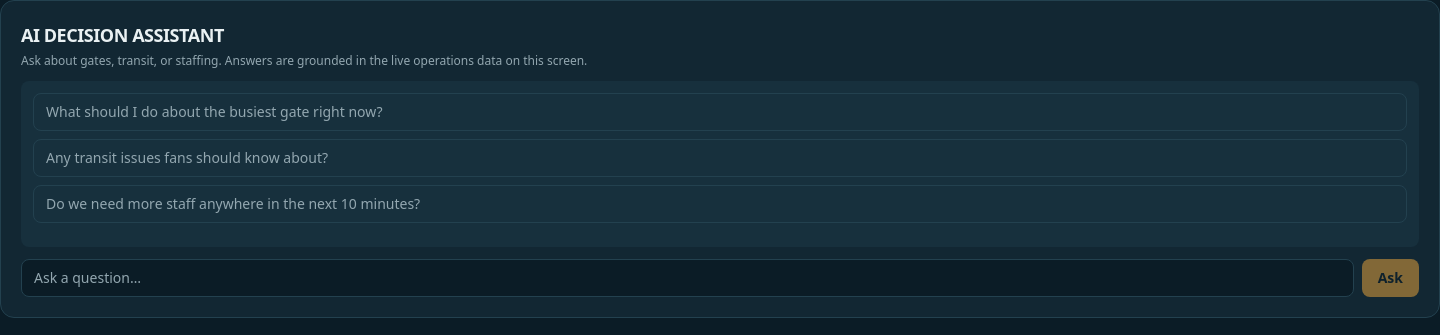
Test: DecisionAssistantPanel › streams the assistant reply into the chat after asking a question
This screenshot has width=1440, height=335.
Step 1. Click the button "What should I do about the busiest gate right now?" → (214, 112), box [33,93,1407,131]
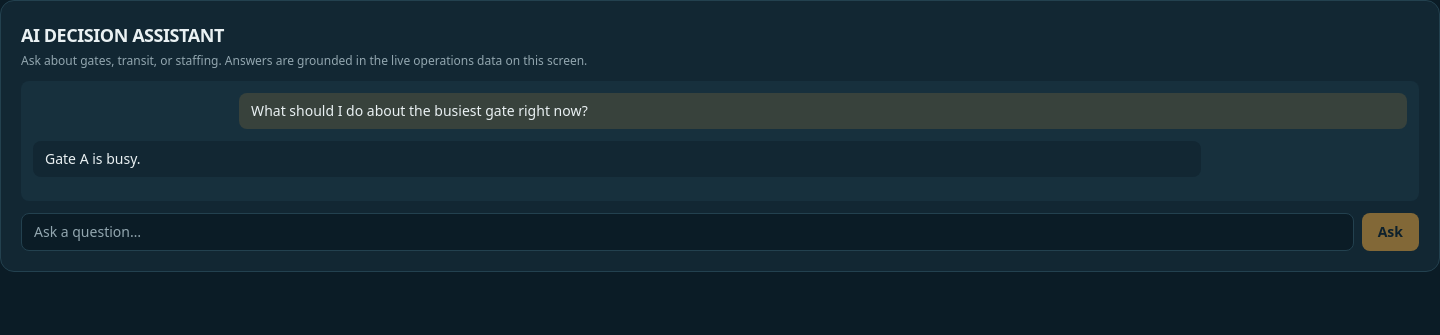
Expected: the text "Gate A is busy." is shown, [33,141,1201,177]
